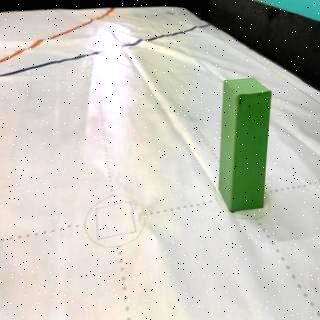greenbox: (220, 76, 272, 214)
